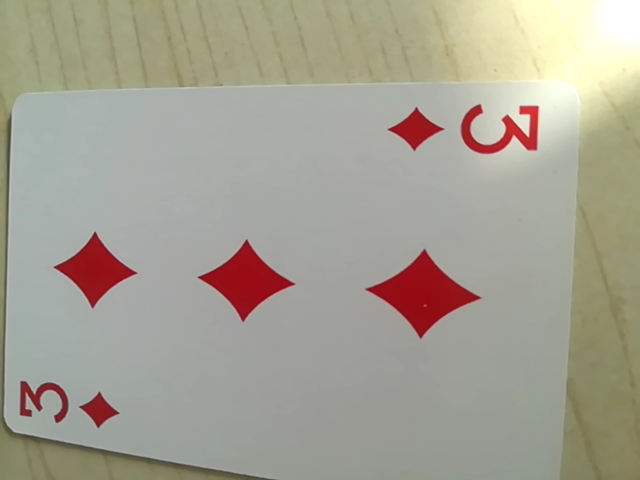fk 3: (397, 97, 544, 163), (8, 368, 125, 441)
